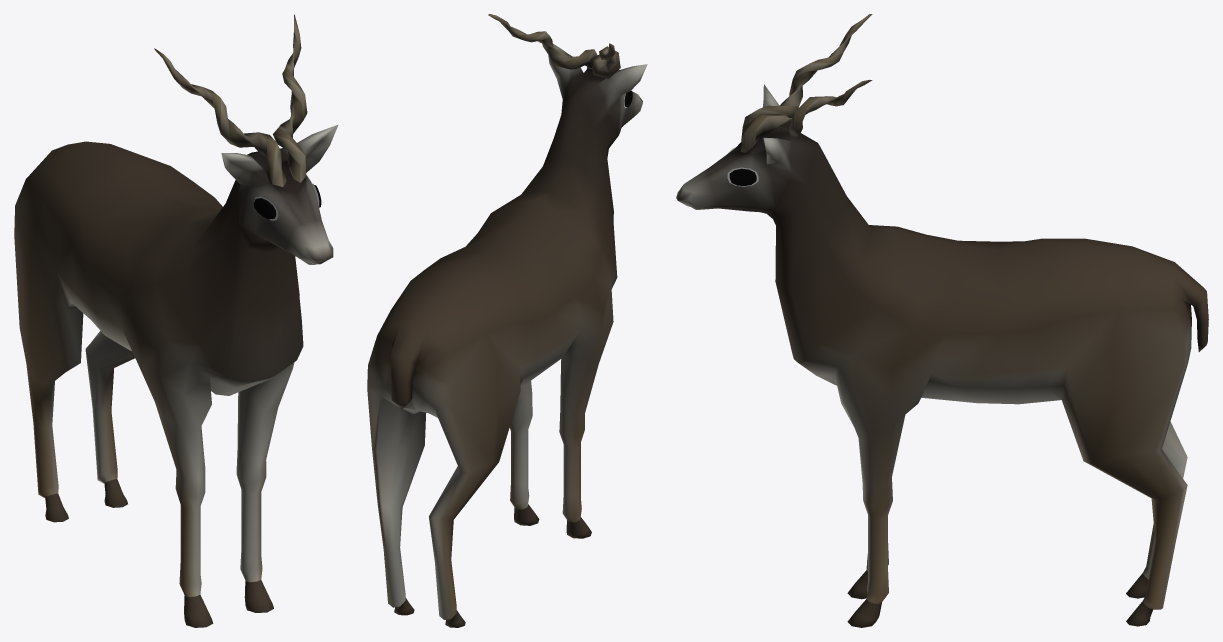
Rendered from animals-animals-blackbuck_v1.glb.
3 views of the same model, side by side, from view 1: azimuth 30°, elevation 25°; view 2: azimuth 150°, elevation 25°; view 3: azimuth 270°, elevation 25° (orthographic). The views are drawn at different scales.
Visible parts, largest first — view 1: Blackbuck_v1; view 2: Blackbuck_v1; view 3: Blackbuck_v1.
Part boxes in pixels (bbox=[...]): Blackbuck_v1: bbox=[14, 14, 338, 627]; Blackbuck_v1: bbox=[367, 14, 647, 627]; Blackbuck_v1: bbox=[676, 14, 1208, 627].
Size of the model in its own units: 0.4959 by 1.82 by 1.57.
